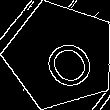O_NW: (27, 22, 94, 89)
